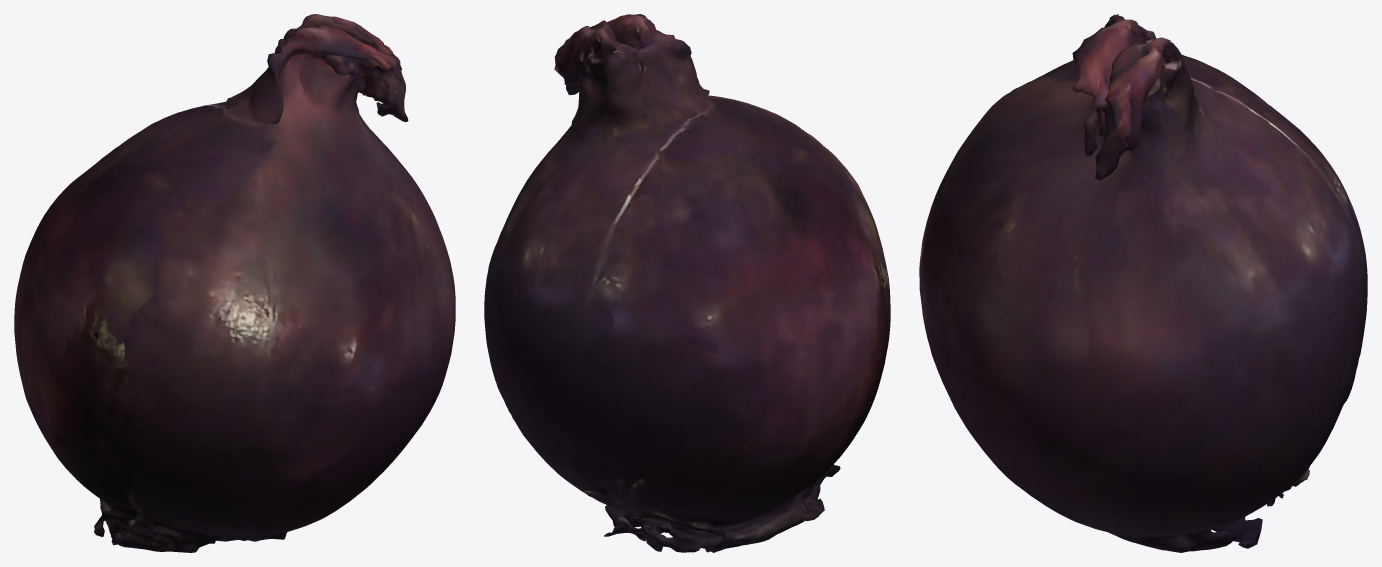
The model's file is rote_Zwiebel_low.fbx.
The picture shows the model from 3 angles, left to right: view 1: azimuth 30°, elevation 25°; view 2: azimuth 150°, elevation 25°; view 3: azimuth 270°, elevation 25°; orthographic projection. The views are drawn at different scales.
Parts seen in each view (by area): view 1: rote_Zwiebel_tex_low; view 2: rote_Zwiebel_tex_low; view 3: rote_Zwiebel_tex_low.
Part boxes in pixels (x1=…): rote_Zwiebel_tex_low: x1=14, y1=14, x2=455, y2=552; rote_Zwiebel_tex_low: x1=484, y1=14, x2=890, y2=552; rote_Zwiebel_tex_low: x1=919, y1=14, x2=1367, y2=552.
Size of the model in its own units: 7.42 by 9.58 by 7.03.
Materials: 1 (1 with a texture image).
